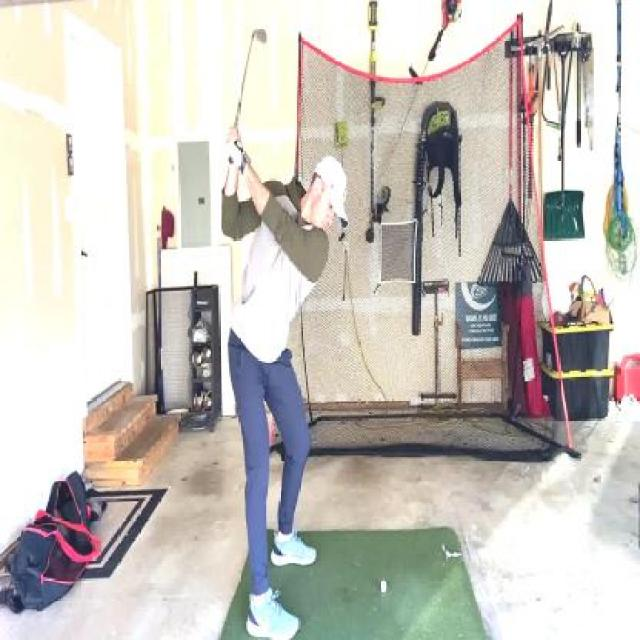club head: (249, 27, 268, 45)
